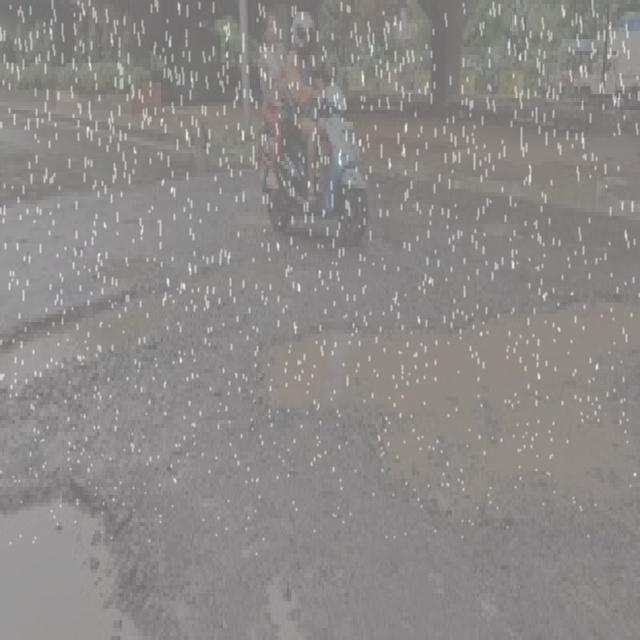Pothole: (250, 304, 640, 533), (0, 256, 235, 396), (0, 459, 171, 640), (238, 501, 320, 640)
